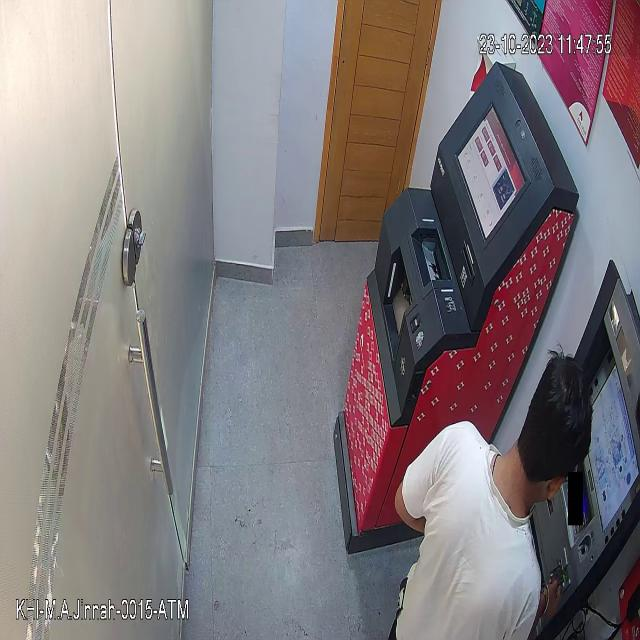atm-card: (545, 556, 570, 590)
